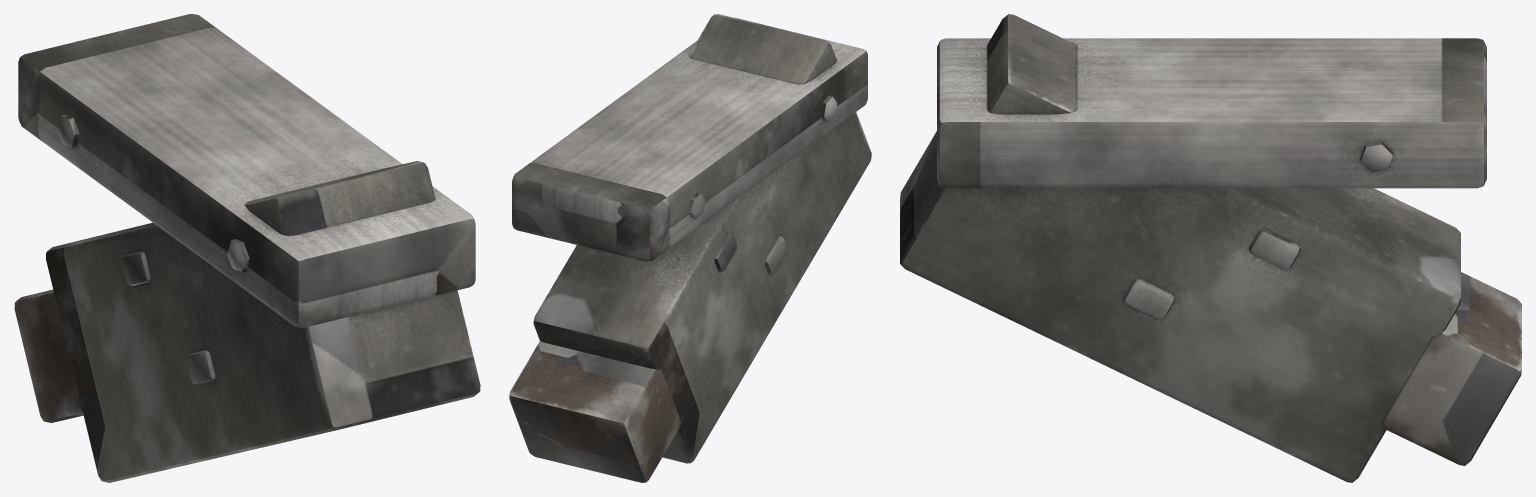
The model's file is angled_grip.glb.
3 views of the same model, side by side, from view 1: azimuth 30°, elevation 25°; view 2: azimuth 150°, elevation 25°; view 3: azimuth 270°, elevation 25° (orthographic). The views are drawn at different scales.
Visible parts, largest first — view 1: ramp, clamp, nose, rib_b, rib_a, clamp_screw.001, clamp_screw.002; view 2: ramp, clamp, nose, rib_b, rib_a; view 3: ramp, clamp, nose, rib_b, rib_a, clamp_screw.
Part boxes in pixels (x1,y1,x2,y2): ramp: (46,161,480,482); clamp: (18,14,475,327); nose: (14,289,83,422); rib_b: (186,350,215,384); rib_a: (122,251,150,285); clamp_screw.001: (57,114,79,147); clamp_screw.002: (227,239,249,271); ramp: (533,14,871,463); clamp: (512,17,867,261); nose: (509,341,681,482); rib_b: (765,236,787,275); rib_a: (714,233,736,272); ramp: (900,14,1460,482); clamp: (937,38,1486,188); nose: (1382,272,1521,465); rib_b: (1123,279,1174,319); rib_a: (1249,229,1300,269); clamp_screw: (1360,141,1393,172).
Size of the model in its own units: 0.0284 by 0.0565 by 0.0792.
1 material, 1 textured.
